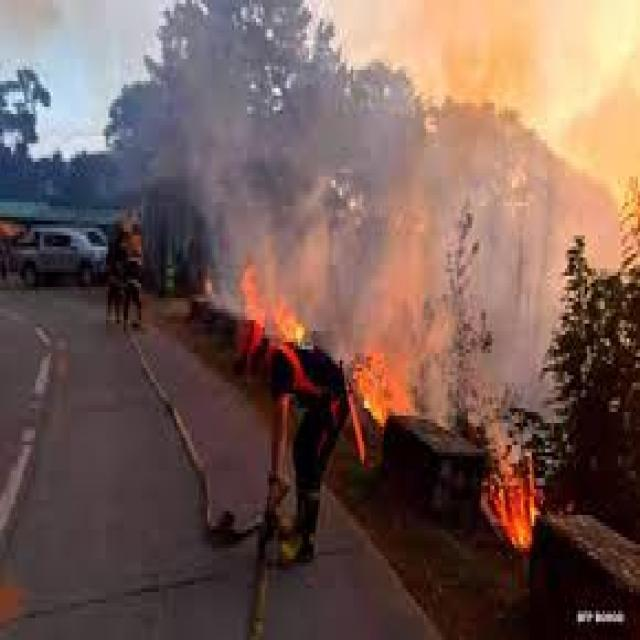Fire: (238, 257, 312, 345), (488, 448, 542, 552), (355, 350, 423, 426)
Smoke: (192, 0, 639, 441)
